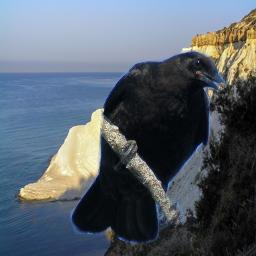Crow: (70, 50, 228, 246)
